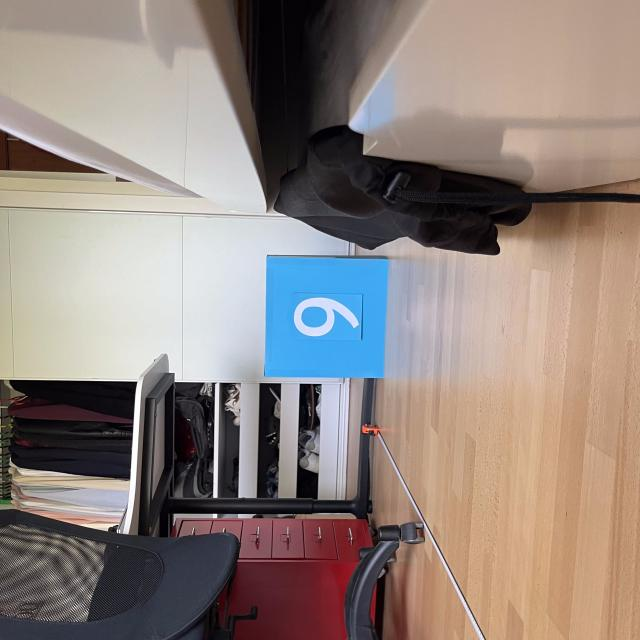box: (260, 250, 392, 380)
